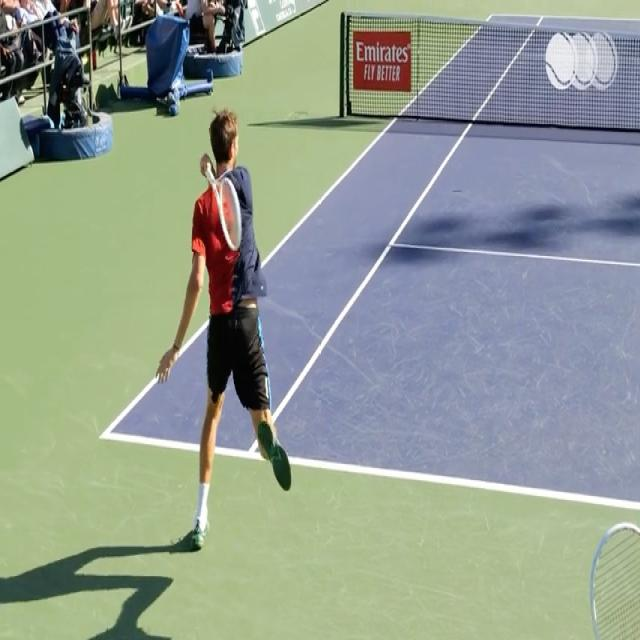forehand-finish: (156, 107, 293, 552)
